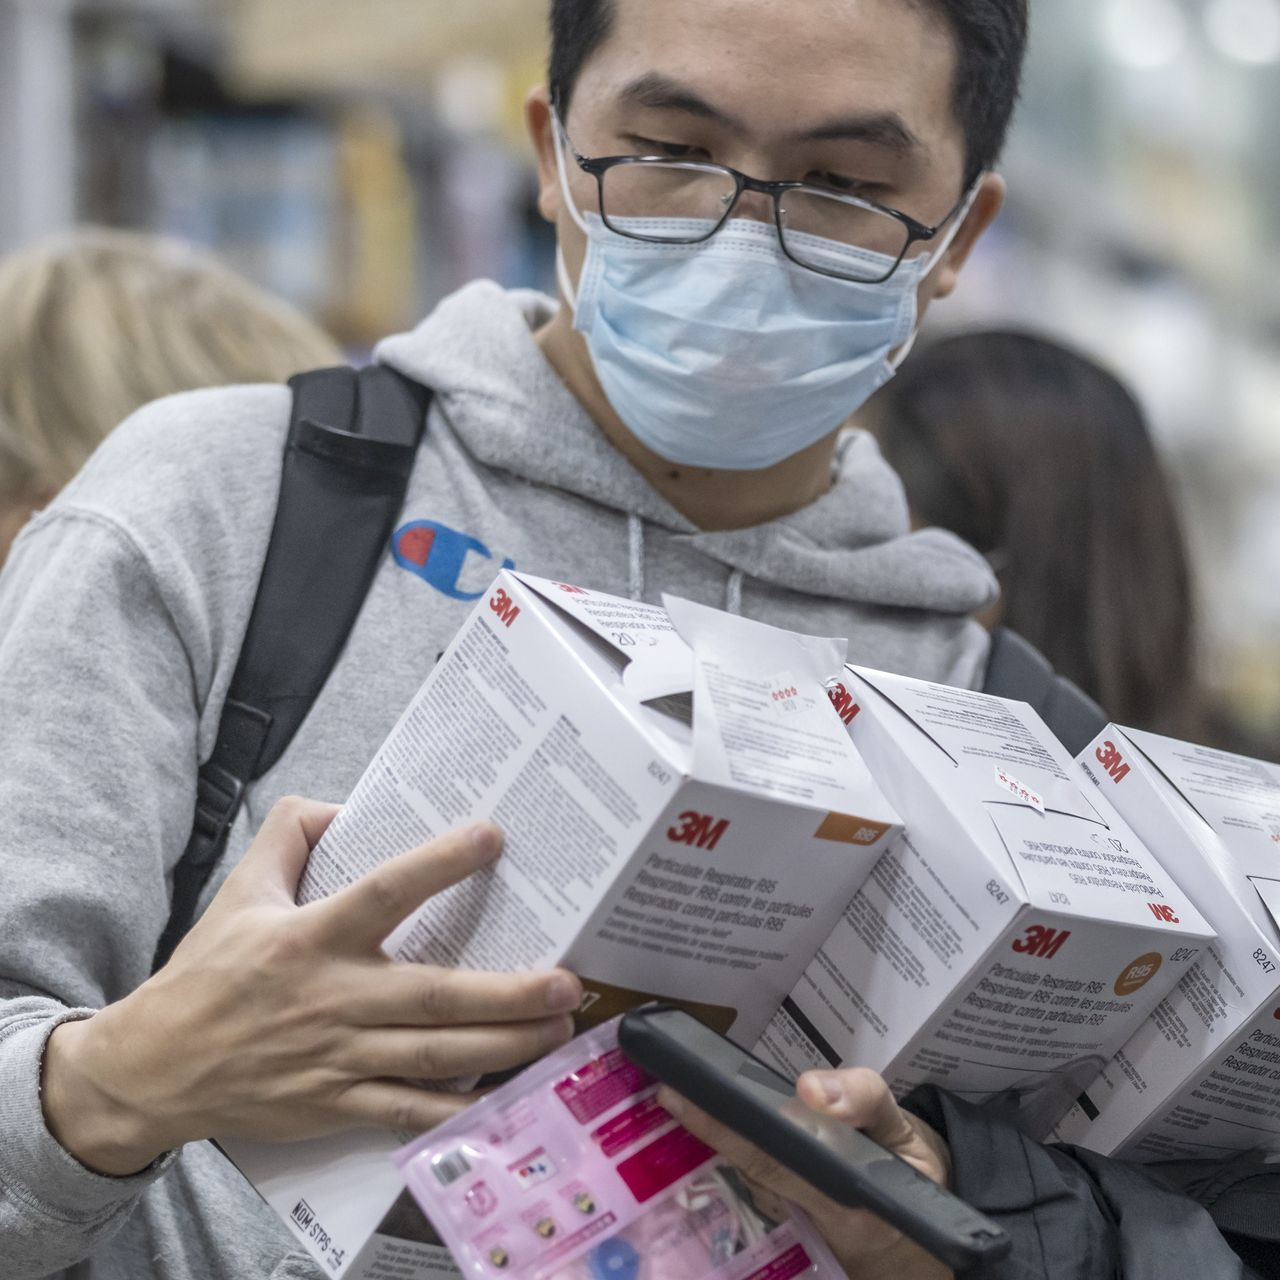surgical: (564, 203, 946, 477)
